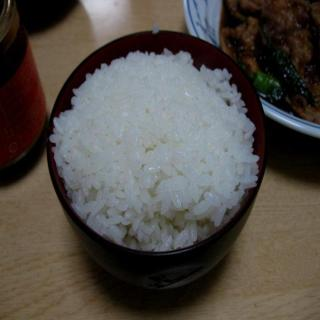Nasi: (49, 47, 261, 253)
